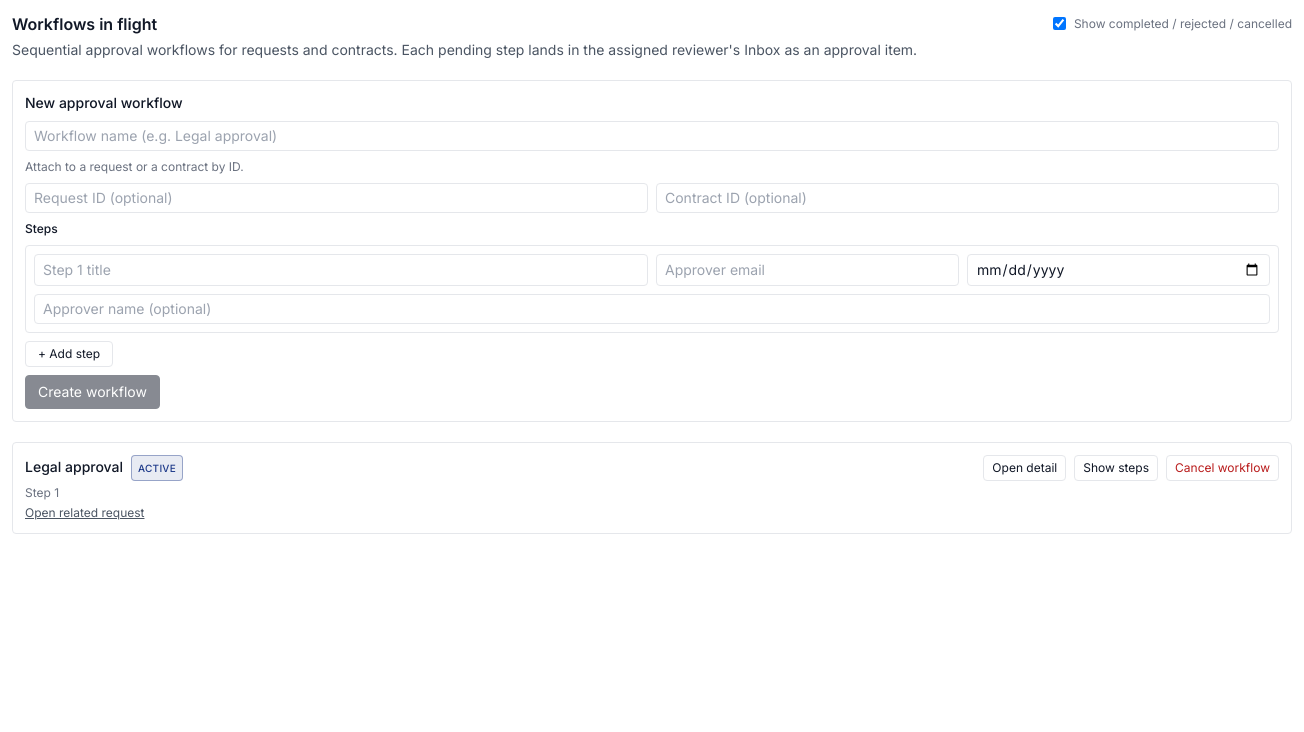
Scenario: ApprovalWorkflowsPage › does not surface raw metadata_json text on the row card
Expected: the text "Legal approval" is shown, x1=25 y1=457 x2=123 y2=477
Click the button with test id "approvals-toggle-detail". click: (1116, 468)
box: x1=1074 y1=455 x2=1158 y2=481
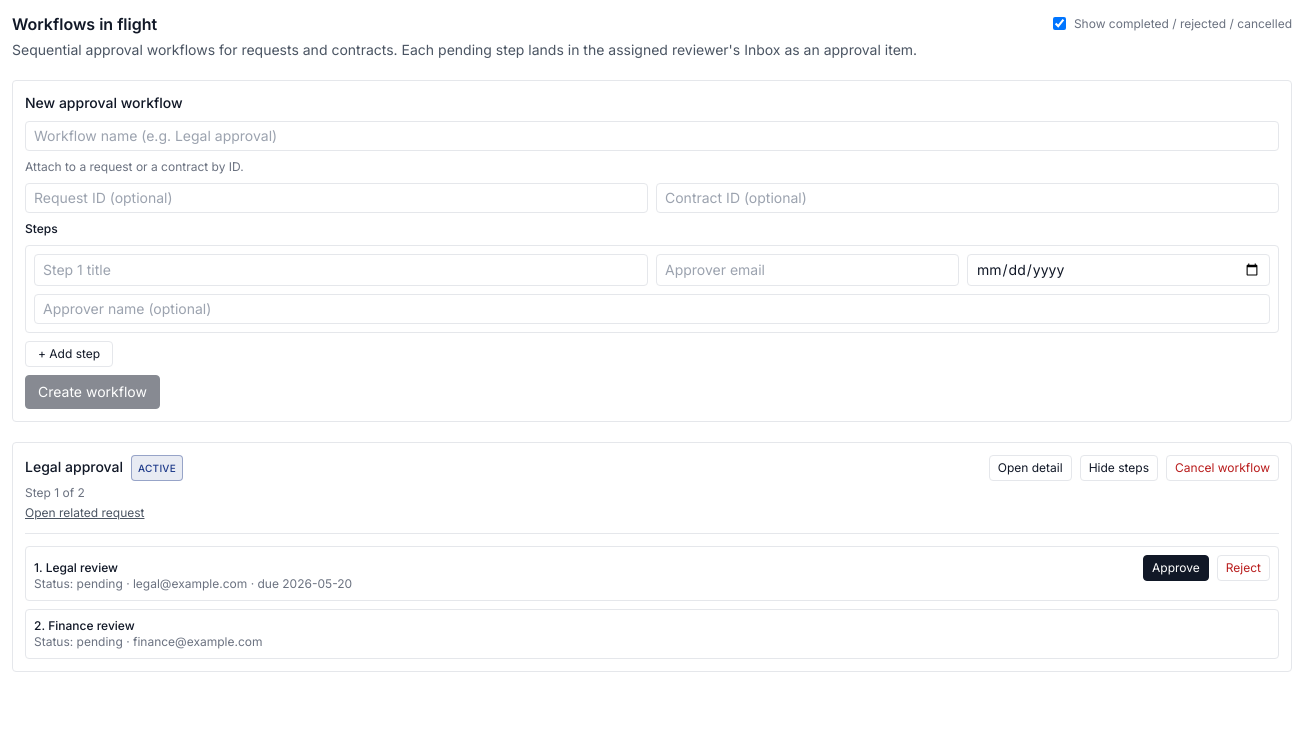
Expected: the list with test id "approvals-step-list" is shown, x1=25 y1=533 x2=1279 y2=659
